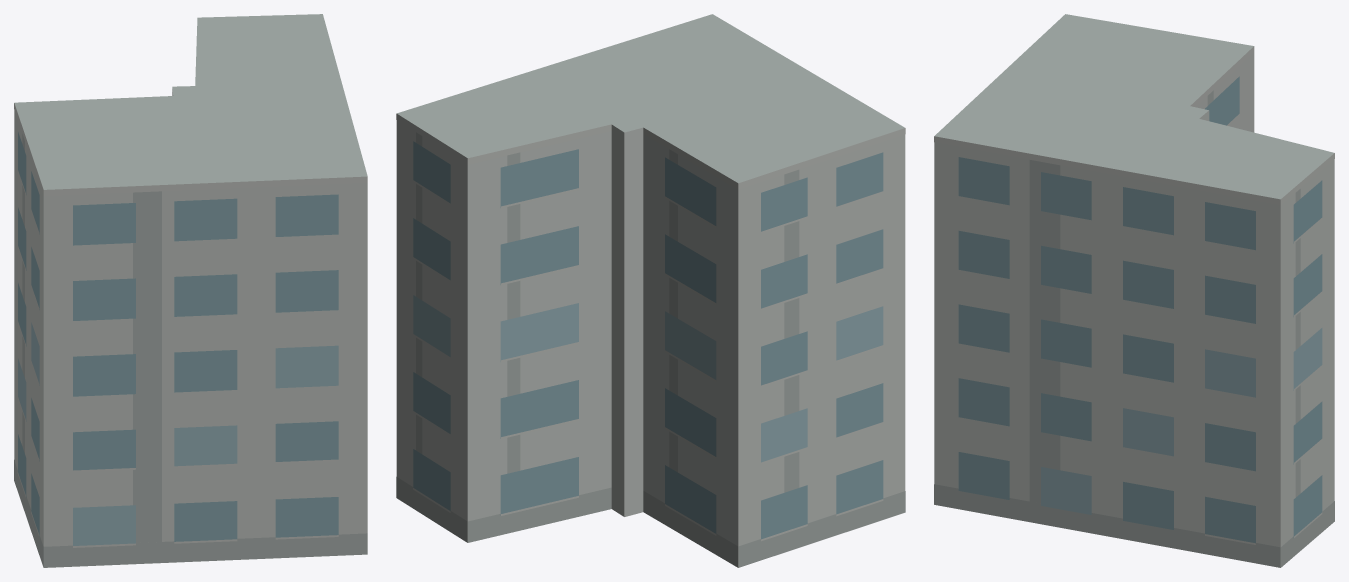
Rendered from survey-upis-32729564.glb.
The picture shows the model from 3 angles, left to right: view 1: azimuth 30°, elevation 25°; view 2: azimuth 150°, elevation 25°; view 3: azimuth 270°, elevation 25°; orthographic projection. The views are drawn at different scales.
Parts seen in each view (by area): view 1: survey-upis-32729564.tmp; view 2: survey-upis-32729564.tmp; view 3: survey-upis-32729564.tmp.
Part boxes in pixels (box(x1,y1,x2,y2)): survey-upis-32729564.tmp: box(14, 14, 367, 567); survey-upis-32729564.tmp: box(396, 14, 905, 567); survey-upis-32729564.tmp: box(934, 14, 1334, 567).
Size of the model in its own units: 15.76 by 14.6 by 14.39.
